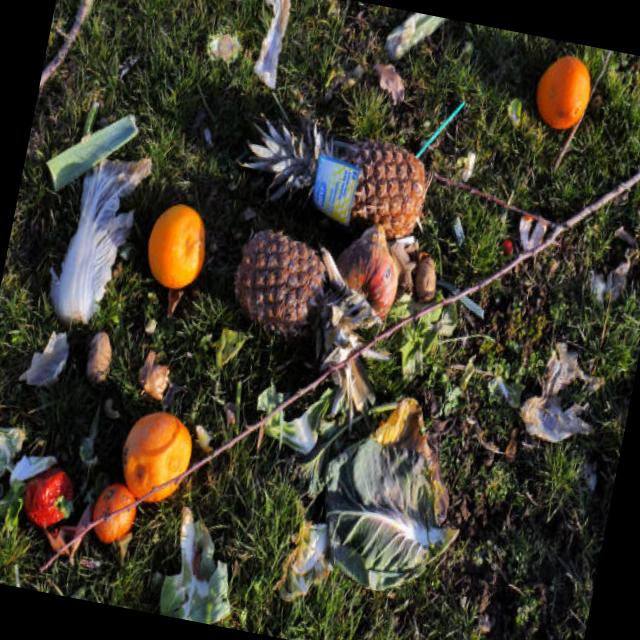paper: (232, 82, 456, 268), (215, 219, 411, 420), (304, 440, 474, 600), (54, 160, 152, 344), (138, 194, 212, 326), (113, 404, 200, 504), (534, 50, 614, 144), (11, 462, 83, 534)
